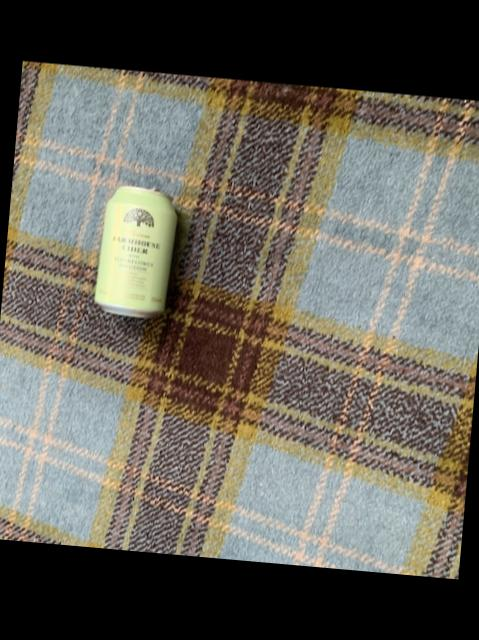metal: (92, 187, 174, 318)
